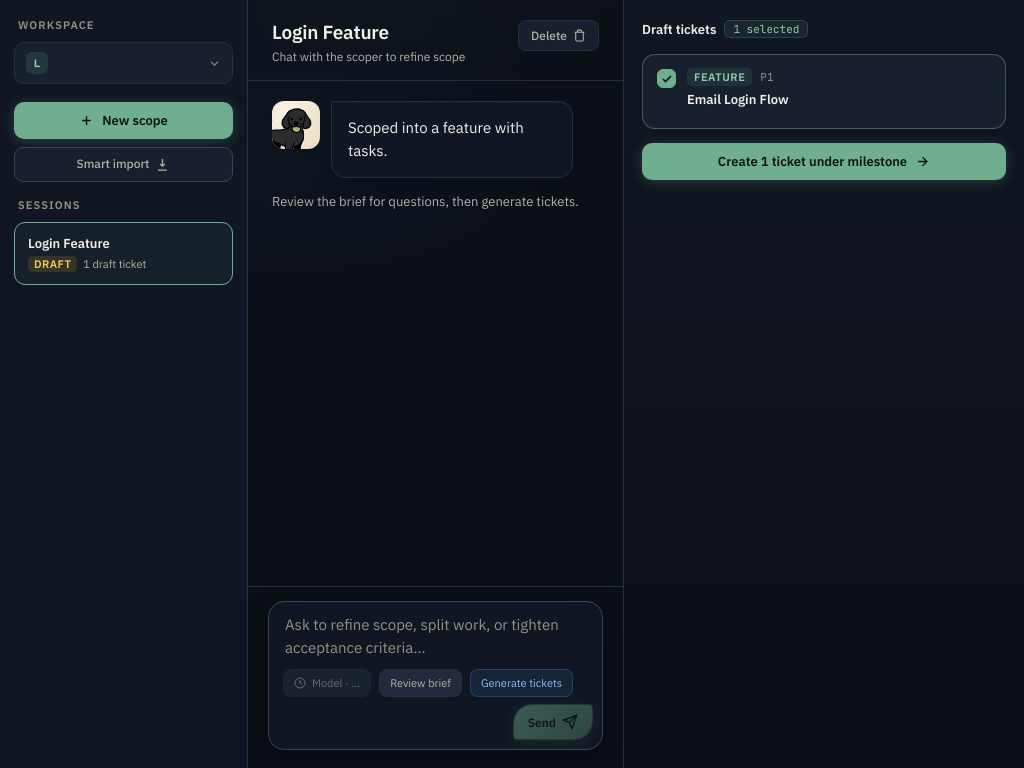
ADVA-INT-2: Network Failure Scenarios › ADVA-INT-2.1: handles a never-resolving commit request (disables the button)
Click the button "Create 1 ticket under milestone": (824, 161) x1=642 y1=143 x2=1006 y2=180
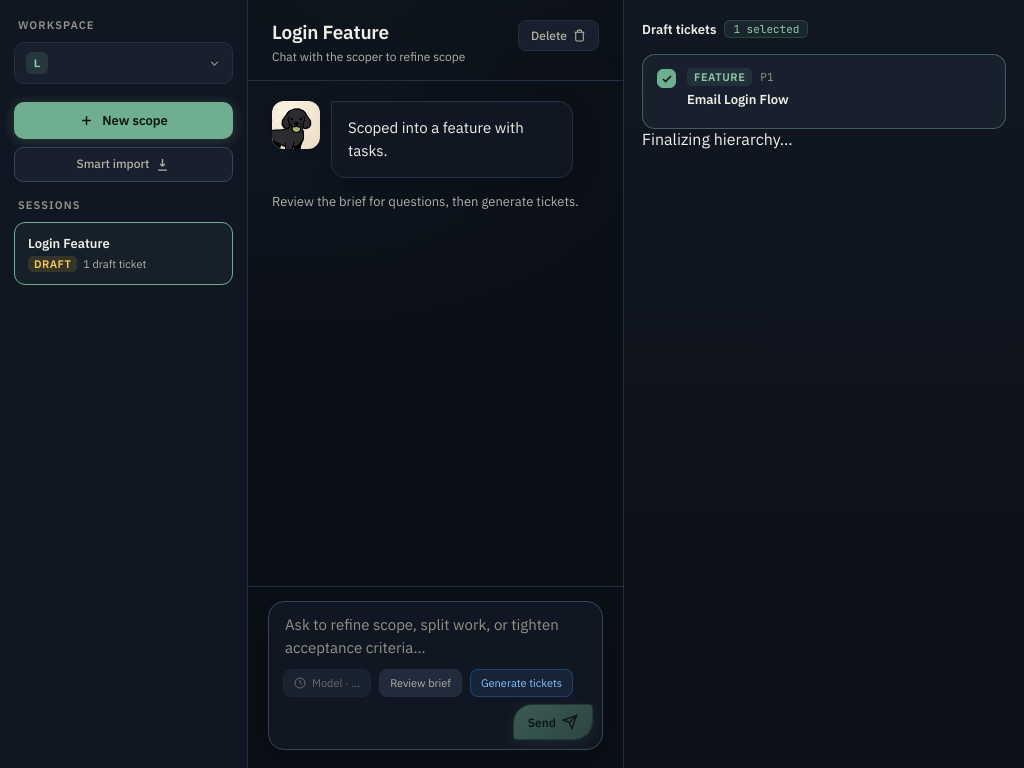
Now the message "Finalizing hierarchy…" is shown, box x1=642 y1=129 x2=793 y2=149
